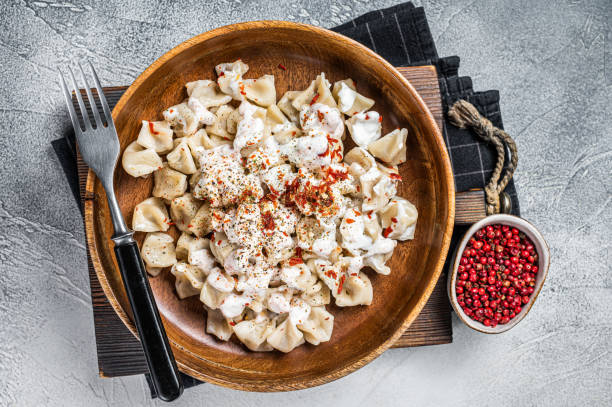turkish dumplings: (92, 30, 438, 391)
